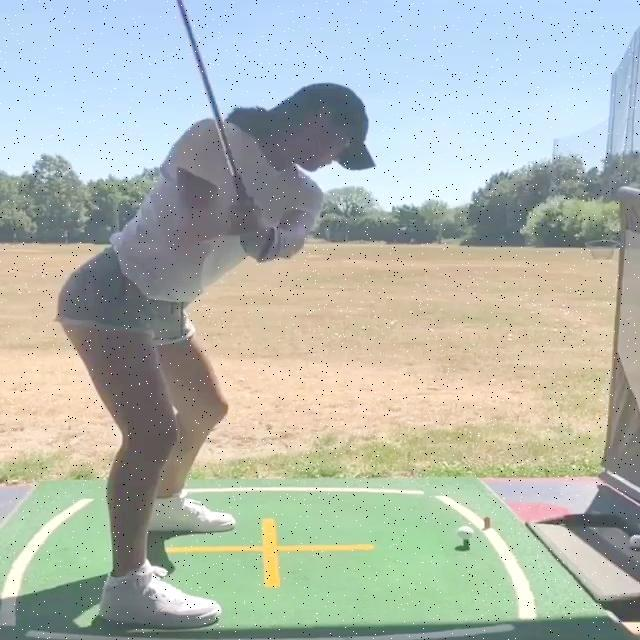golf ball: (452, 524, 475, 540), (622, 530, 640, 544)
golf club-handle: (172, 0, 258, 194)
